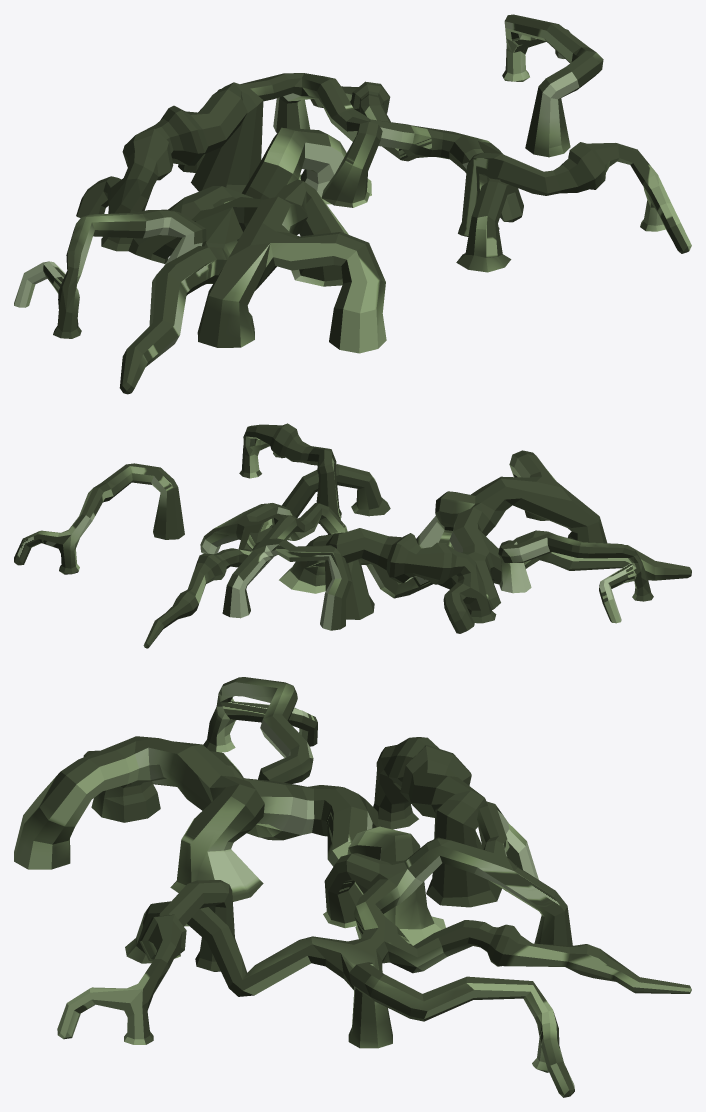
Rendered from EA_Swamp_Root_03c.glb.
3 renders of one model, top to bottom at view 1: azimuth 30°, elevation 25°; view 2: azimuth 150°, elevation 25°; view 3: azimuth 270°, elevation 25°, orthographic. The views are drawn at different scales.
Parts seen in each view (by area): view 1: EA_Swamp_Root_03c; view 2: EA_Swamp_Root_03c; view 3: EA_Swamp_Root_03c.
Part boxes in pixels (<box>): EA_Swamp_Root_03c: <box>14,14,691,394</box>; EA_Swamp_Root_03c: <box>14,423,691,648</box>; EA_Swamp_Root_03c: <box>14,677,691,1097</box>.
Size of the model in its own units: 5.71 by 0.9741 by 4.55.
Materials: 1 (1 with a texture image).
